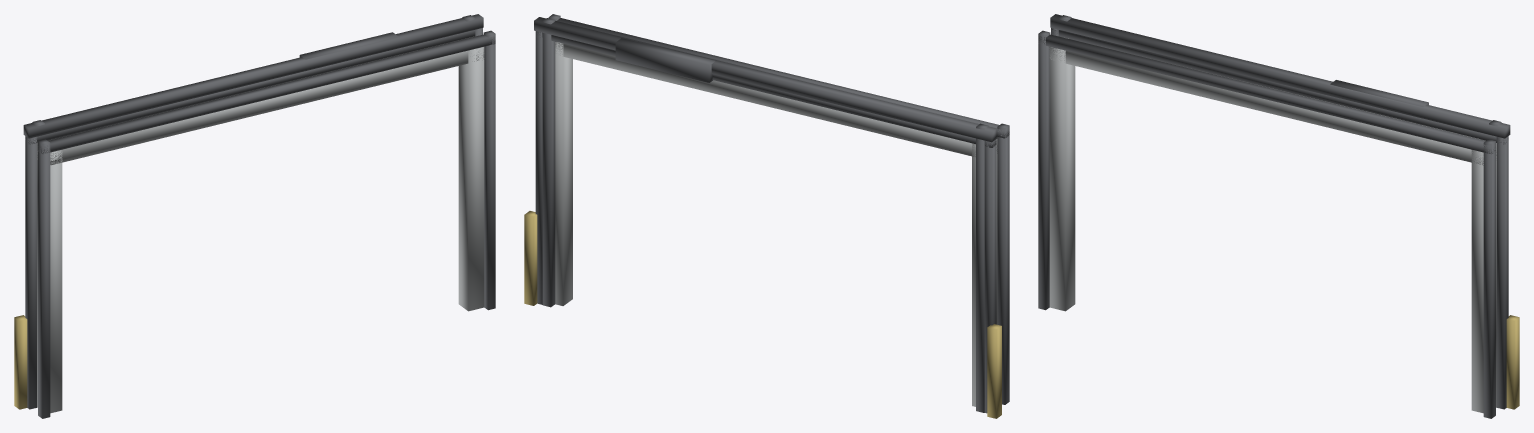
Rendered from bay_opening_loading_bay_w480_h280_d20.glb.
The picture shows the model from 3 angles, left to right: view 1: azimuth 30°, elevation 25°; view 2: azimuth 150°, elevation 25°; view 3: azimuth 330°, elevation 25°; orthographic projection.
Visible parts, largest first — view 1: world; view 2: world; view 3: world.
Part boxes in pixels (x1,y1,x2,y2): world: (14,14,495,418); world: (524,14,1009,418); world: (1038,14,1519,418).
Bounding box in the file's own units: 5.54 × 3.19 × 0.422.
